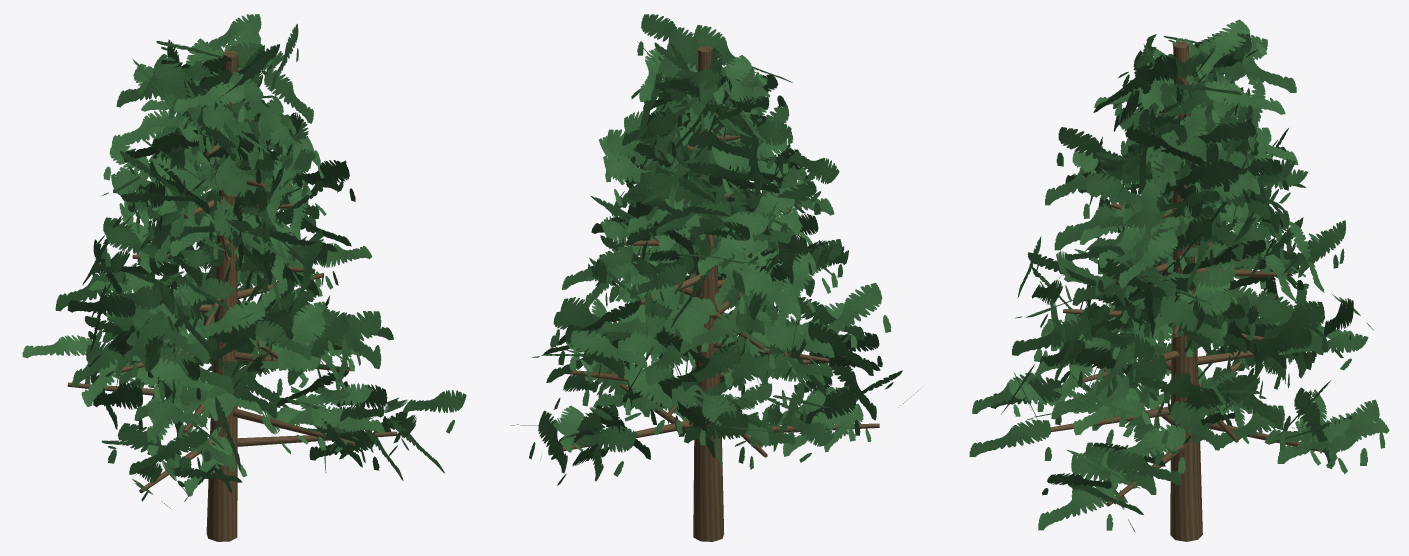
The picture shows the model from 3 angles, left to right: view 1: azimuth 30°, elevation 25°; view 2: azimuth 150°, elevation 25°; view 3: azimuth 270°, elevation 25°; orthographic projection. The views are drawn at different scales.
Parts seen in each view (by area): view 1: pine-needle, pine-bark; view 2: pine-needle, pine-bark; view 3: pine-needle, pine-bark.
Part boxes in pixels (x1,y1,x2,y2): pine-needle: (22, 14, 466, 508); pine-bark: (67, 50, 397, 541); pine-needle: (510, 14, 918, 485); pine-bark: (561, 46, 879, 541); pine-needle: (969, 19, 1389, 532); pine-bark: (1051, 41, 1324, 541).
Size of the model in its own units: 7.49 by 10.38 by 7.99.
Materials: 2 (2 with a texture image).
